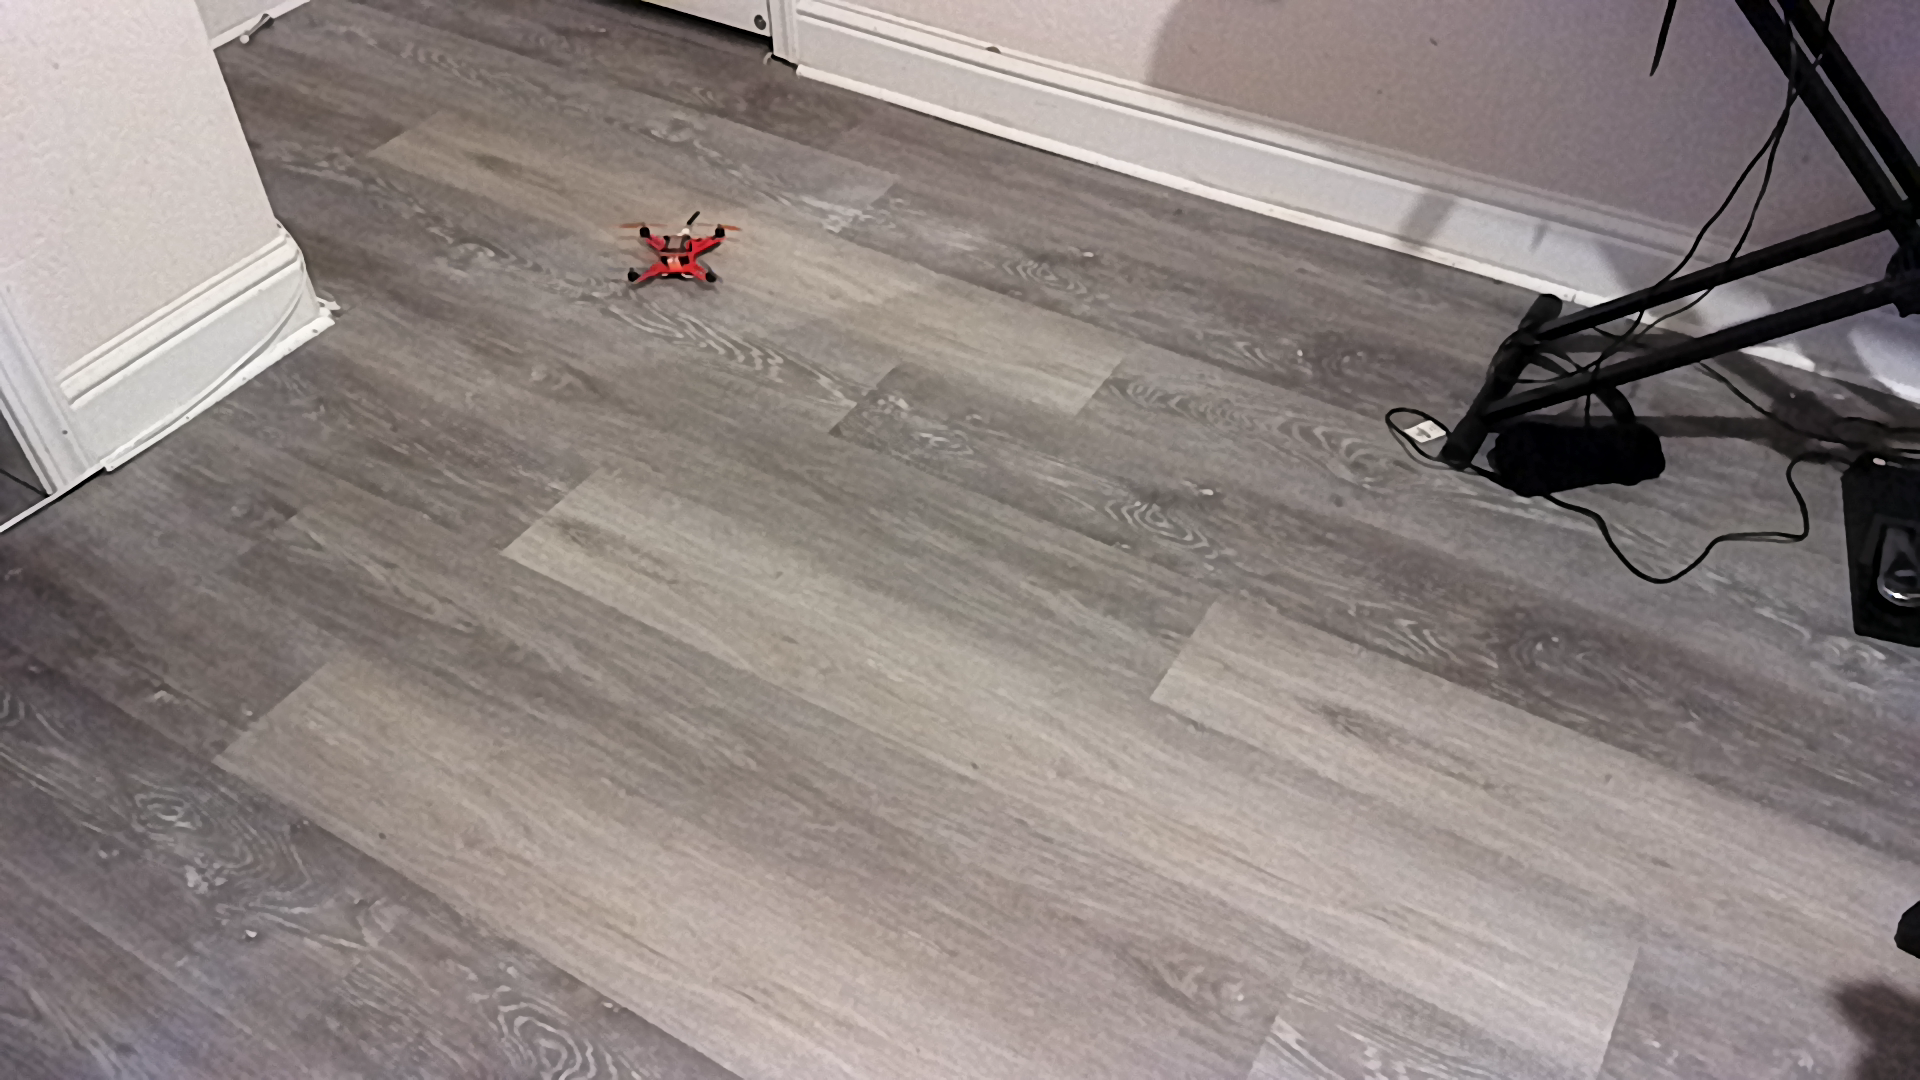drone: (603, 208, 756, 299)
